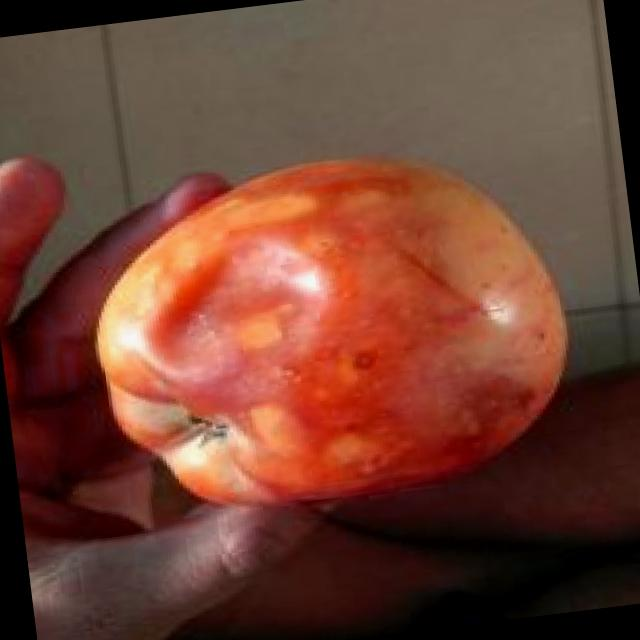Rotten_Apple: (34, 115, 628, 564)
